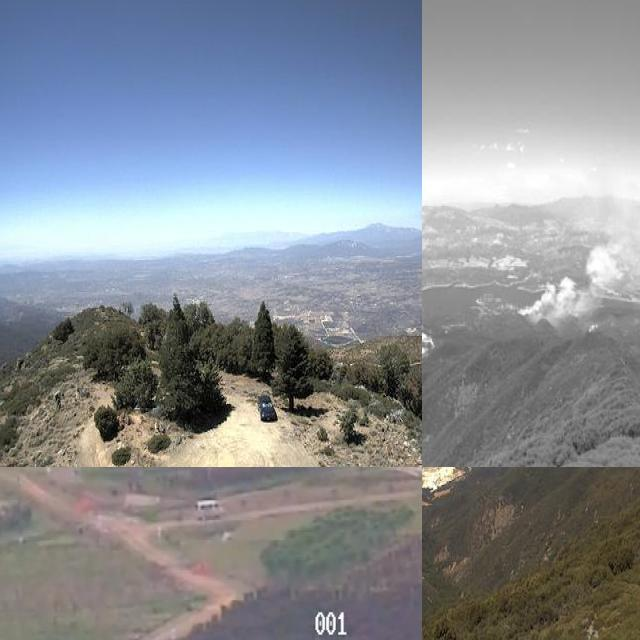smoke: (518, 191, 640, 325)
